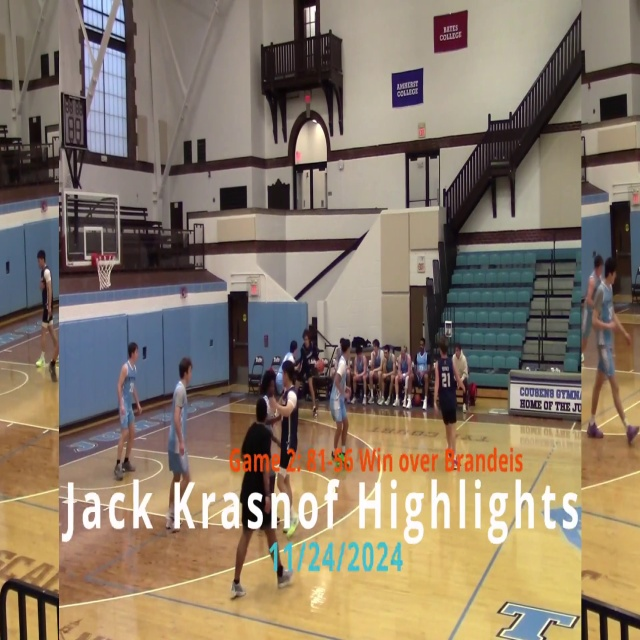Basketball: (276, 390, 297, 417), (344, 387, 351, 398)
